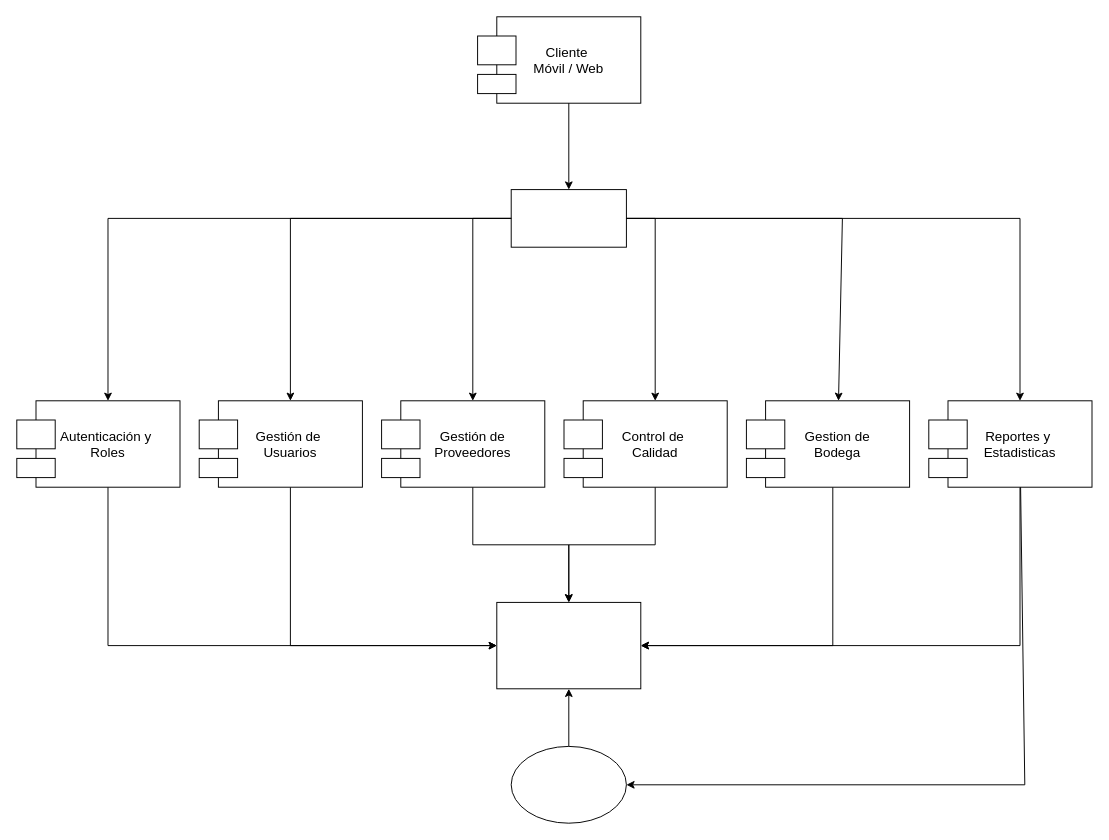
Image size: 1109x840. Some labels were removed from this diagram. The centre of each missing label's shape, as x and y in pixels:
API Gateway: pixel 568 218
Base de Datos: pixel 568 645
Generar reporte: pixel 568 784
